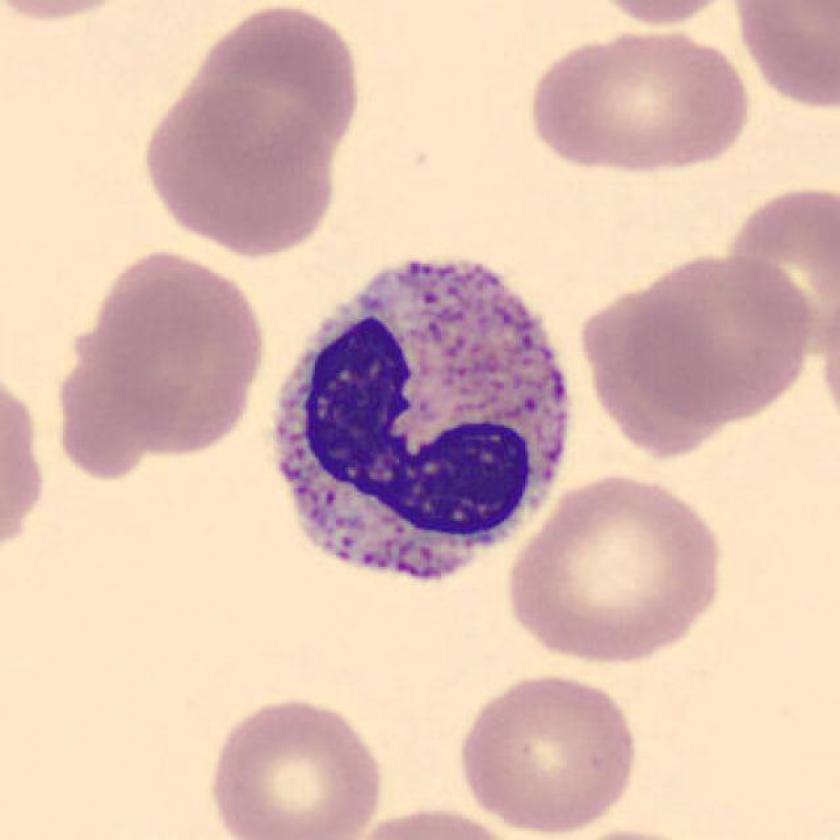neutrophil: (270, 261, 567, 592)
